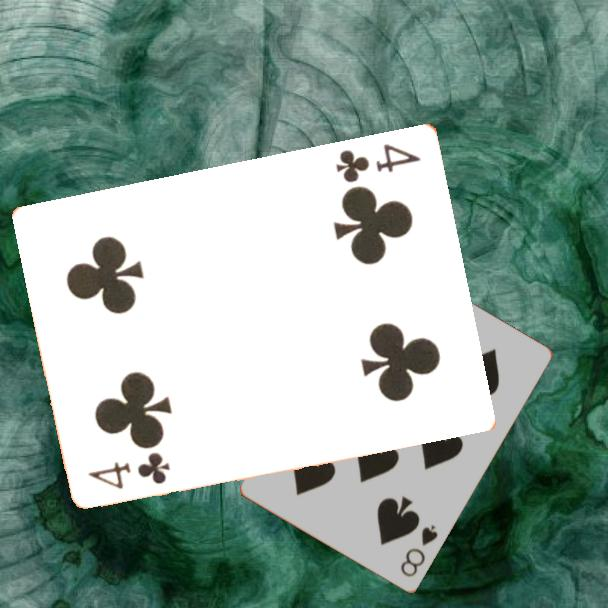c04: (333, 139, 424, 185), (85, 449, 174, 492)
s08: (397, 522, 441, 581)
